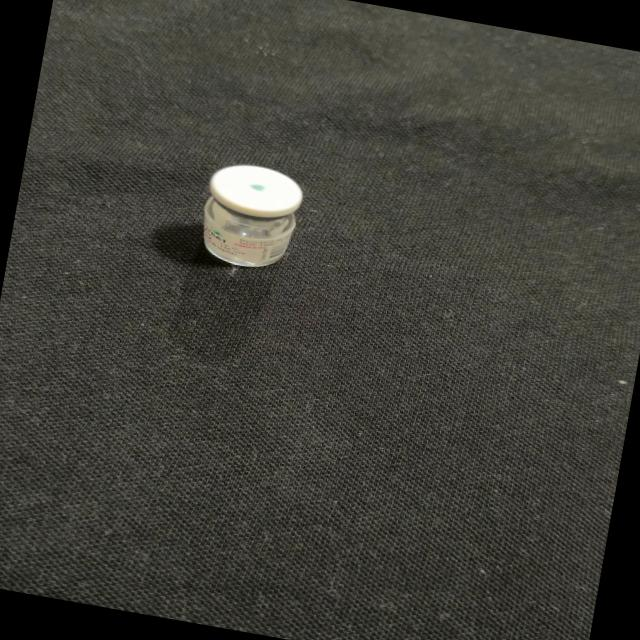fentanl_citrat: (194, 159, 304, 272)
